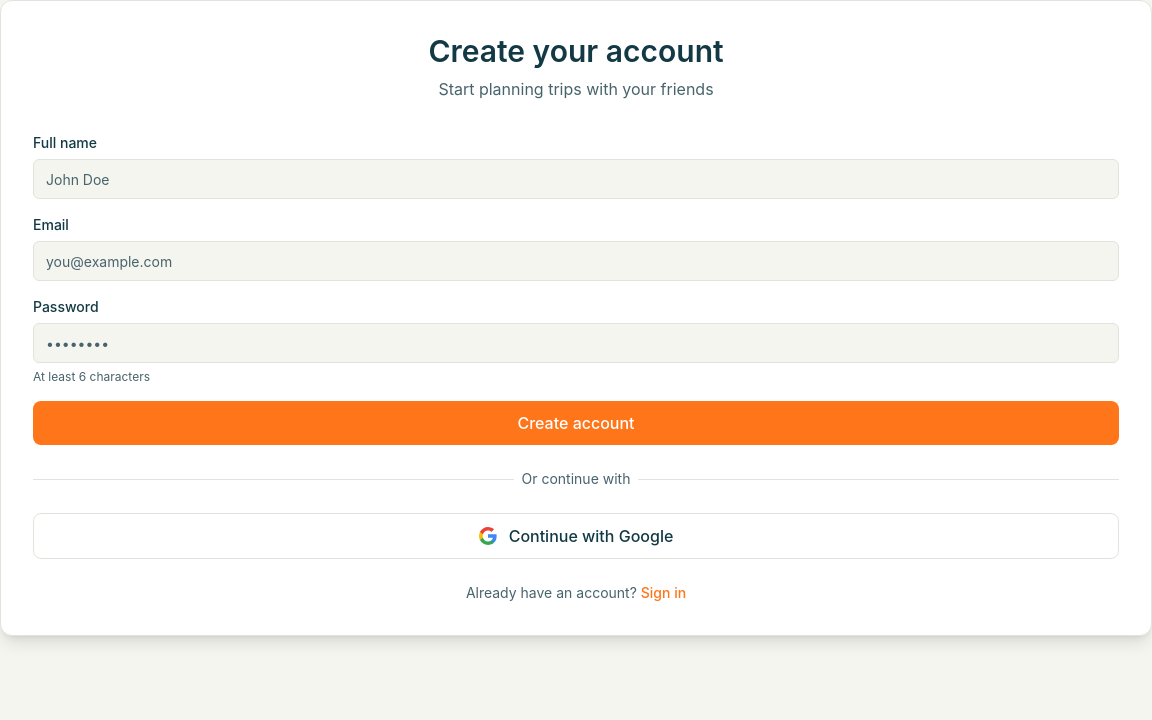
Test: SignupPage › should disable form during submission
The width and height of the screenshot is (1152, 720).
Type "Test User" into the field labelled "Full name" at x=576, y=179, box [33,159,1119,199]
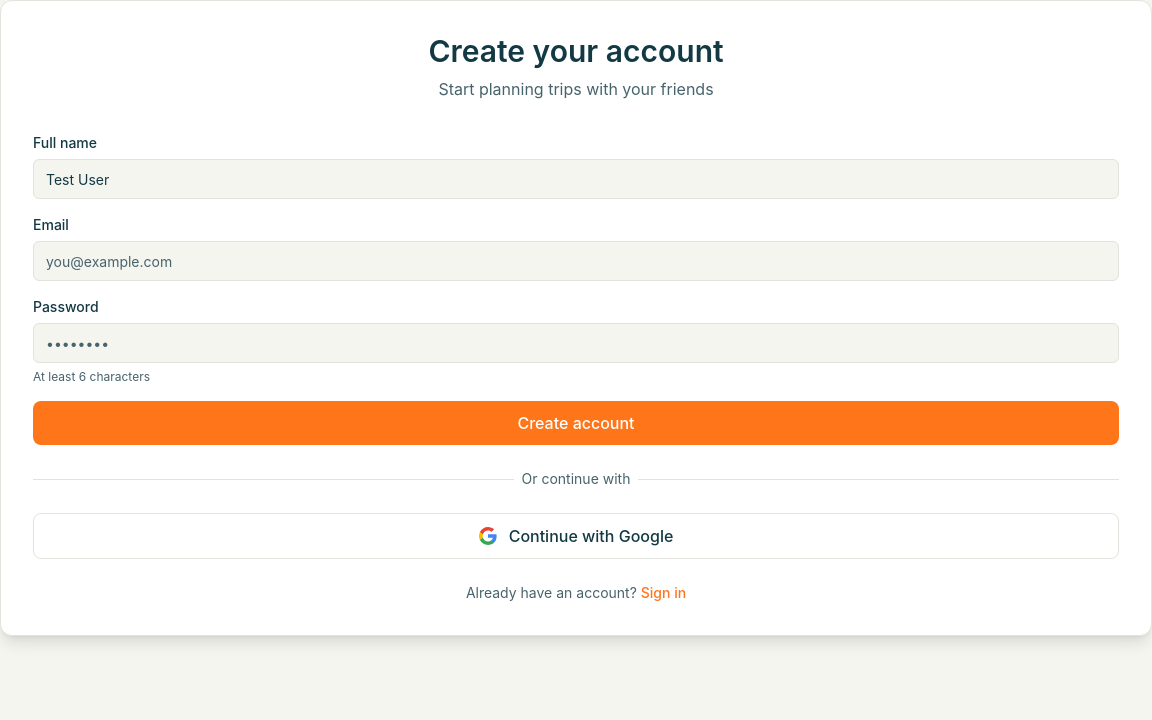
Type "test@example.com" into the field labelled "Email" at x=576, y=261, box [33,241,1119,281]
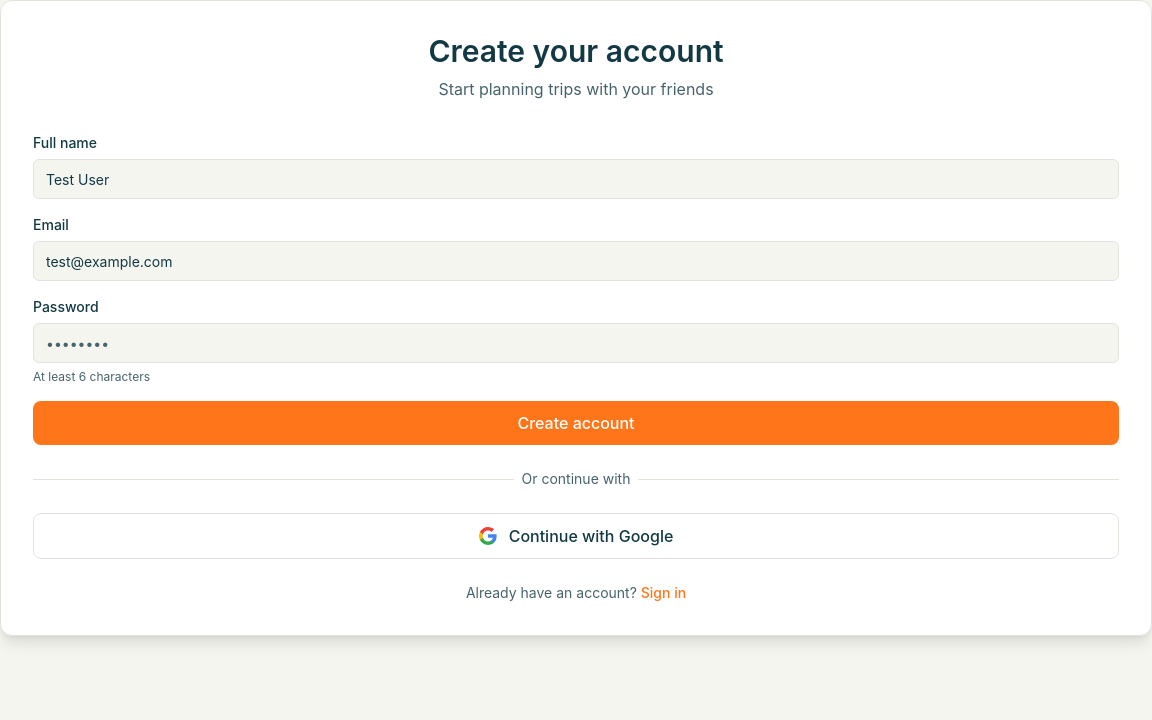
Type "password123" into the password field labelled "Password" at x=576, y=343, box [33,323,1119,363]
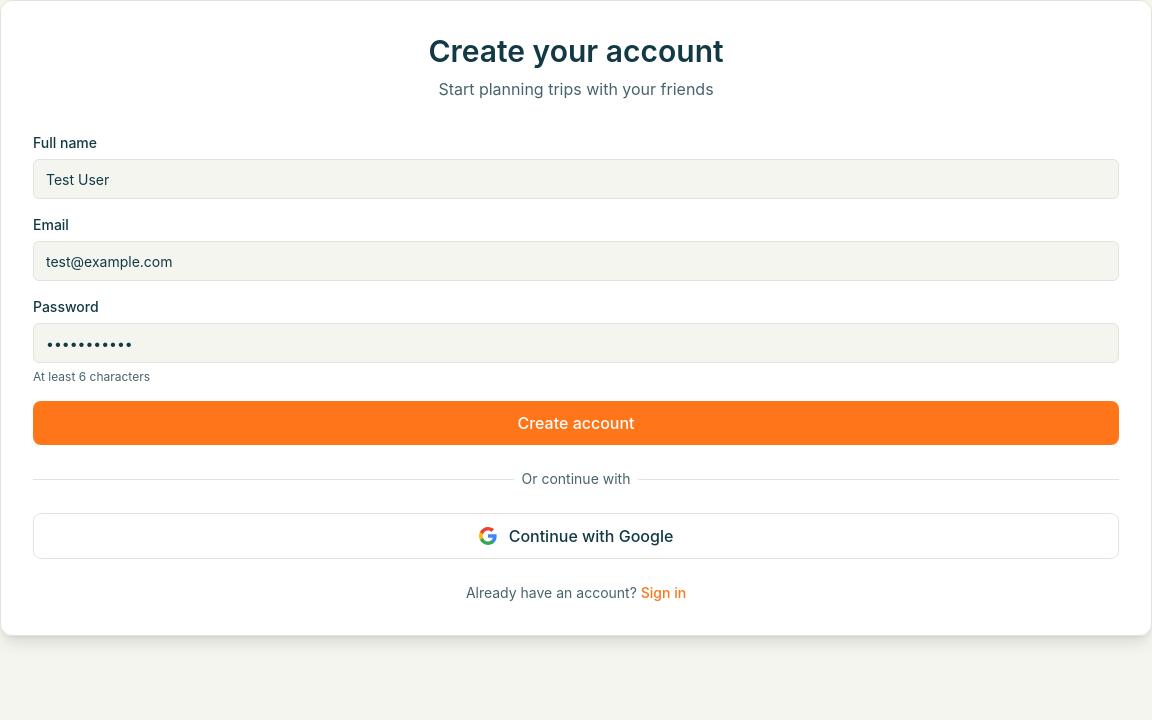
Click the button "Create account" at x=576, y=423, box [33,401,1119,445]
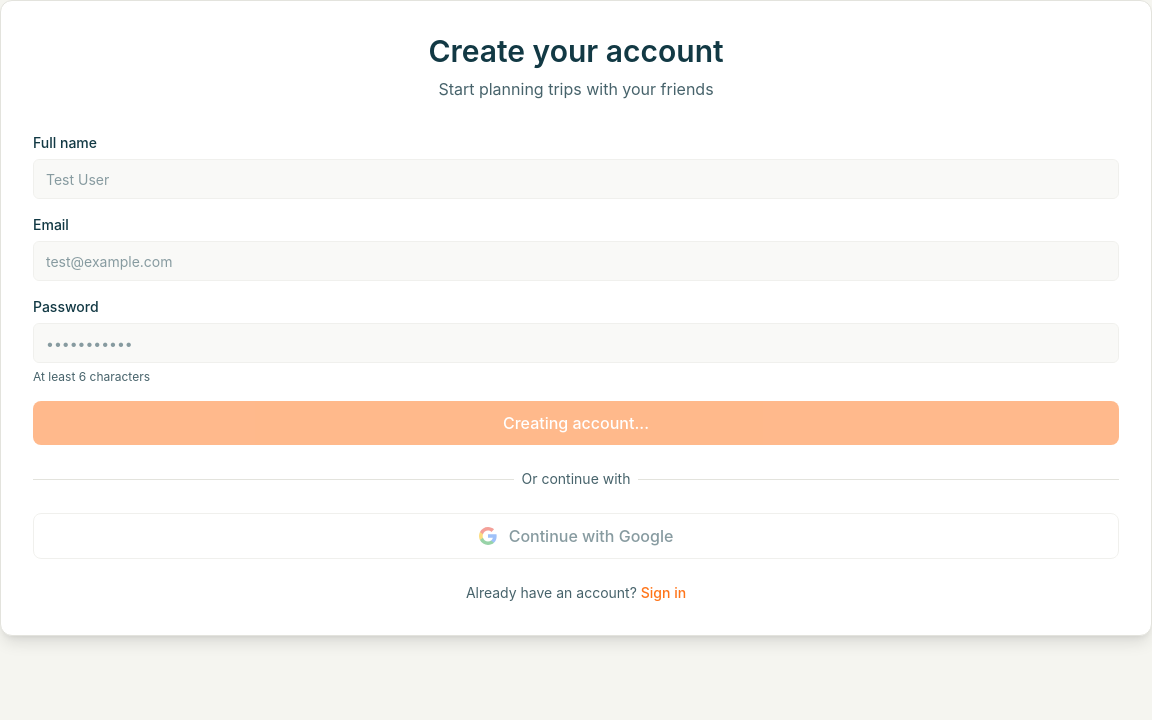
Check: the field labelled "Full name" is disabled, box [33,159,1119,199]
Check: the field labelled "Email" is disabled, box [33,241,1119,281]
Check: the password field labelled "Password" is disabled, box [33,323,1119,363]
